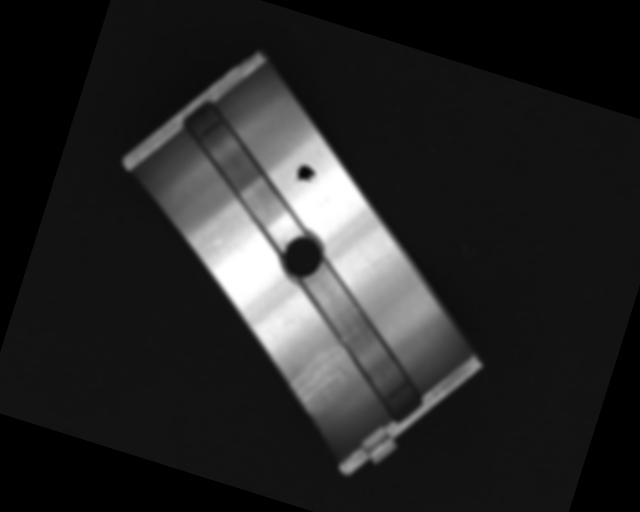blot: (291, 161, 322, 191)
gap: (271, 254, 450, 422), (157, 96, 329, 249)
hole: (276, 229, 327, 283)
nick: (205, 207, 253, 258), (359, 244, 391, 281)
scratch: (285, 335, 358, 419)
